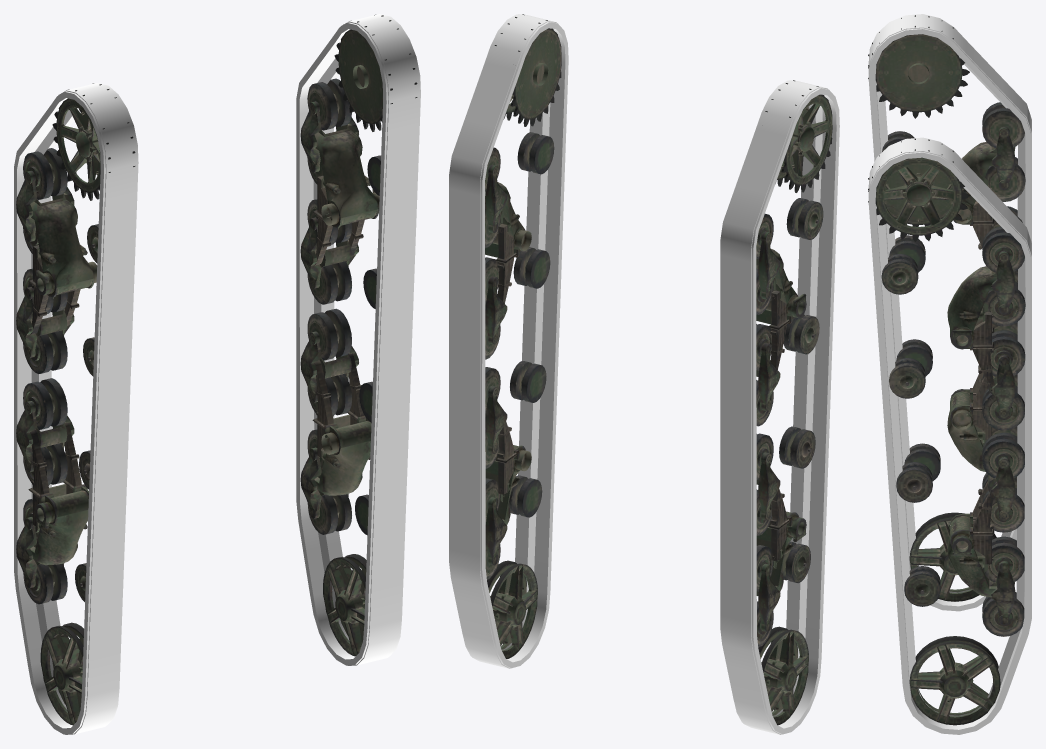
The model's file is Chassis.glb.
3 renders of one model, left to right at view 1: azimuth 30°, elevation 25°; view 2: azimuth 150°, elevation 25°; view 3: azimuth 270°, elevation 25°, orthographic. The views are drawn at different scales.
Visible parts, largest first — view 1: set_1_group_0, set_0_group_0, set_3_group_0, set_2_group_0; view 2: set_0_group_0, set_1_group_0, set_2_group_0, set_3_group_0; view 3: set_3_group_0, set_2_group_0, set_1_group_0, set_0_group_0.
Boxes of the visible parts, <box> form: set_1_group_0: <box>296,14,420,665</box>; set_0_group_0: <box>14,83,138,734</box>; set_3_group_0: <box>300,14,417,656</box>; set_2_group_0: <box>16,83,135,725</box>; set_0_group_0: <box>720,80,839,734</box>; set_1_group_0: <box>449,14,568,668</box>; set_2_group_0: <box>756,80,832,725</box>; set_3_group_0: <box>485,14,561,658</box>; set_3_group_0: <box>868,138,1025,725</box>; set_2_group_0: <box>868,15,1025,601</box>; set_1_group_0: <box>868,137,1031,734</box>; set_0_group_0: <box>868,14,1031,611</box>.
Bounding box in the file's own units: 2.45 × 4.47 × 1.14.
4 materials, 2 textured.
